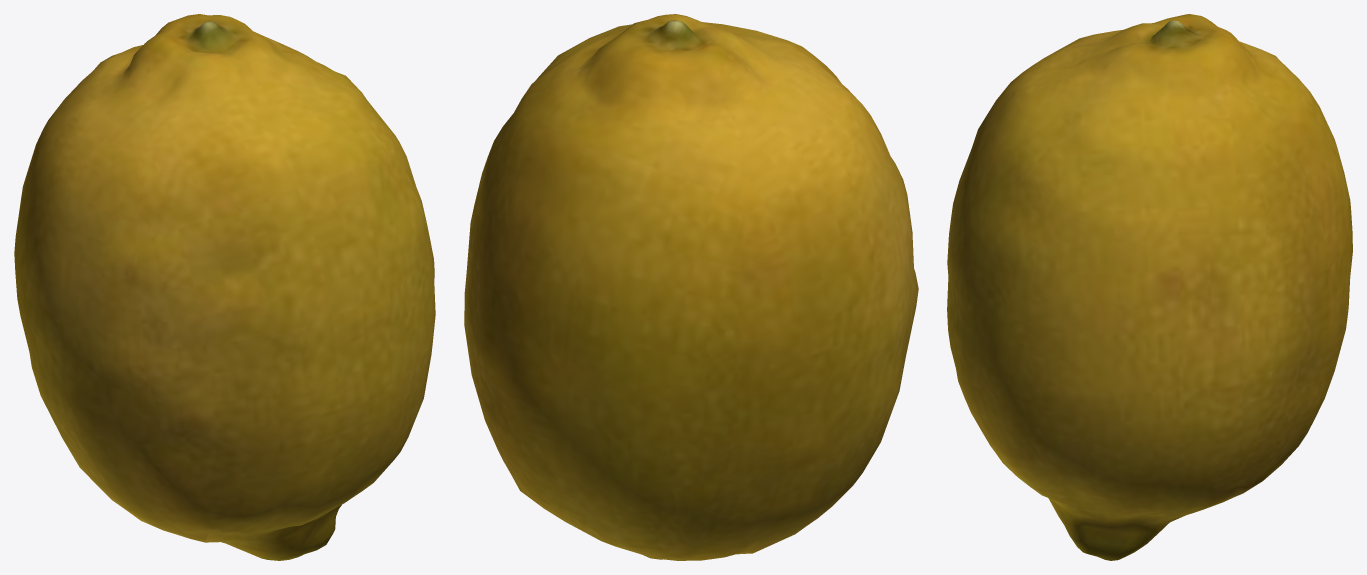
The model's file is lemon.glb.
3 views of the same model, side by side, from view 1: azimuth 30°, elevation 25°; view 2: azimuth 150°, elevation 25°; view 3: azimuth 270°, elevation 25° (orthographic). The views are drawn at different scales.
Parts seen in each view (by area): view 1: lemon; view 2: lemon; view 3: lemon.
Part boxes in pixels (<box>): lemon: <box>14,14,435,560</box>; lemon: <box>464,14,918,560</box>; lemon: <box>947,14,1352,560</box>.
Bounding box in the file's own units: 0.0687 × 0.0954 × 0.0683.
1 material, 1 textured.
